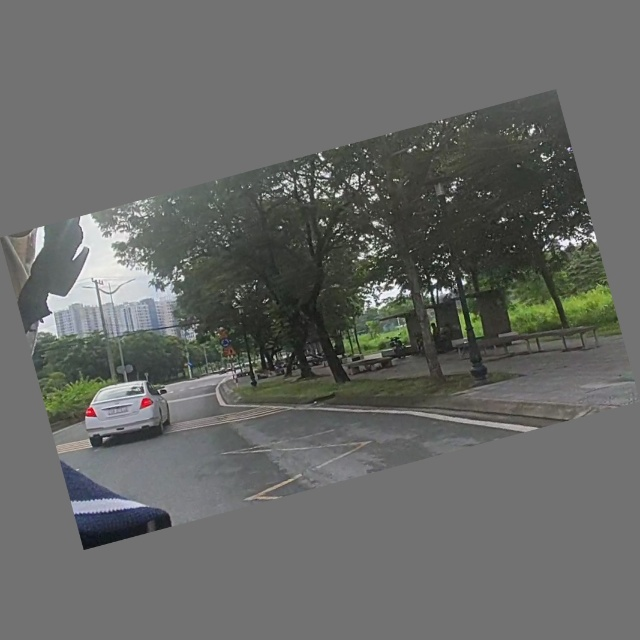P.102: (182, 362, 189, 369)
R.303: (220, 338, 232, 349)
W.207: (225, 345, 238, 357)
